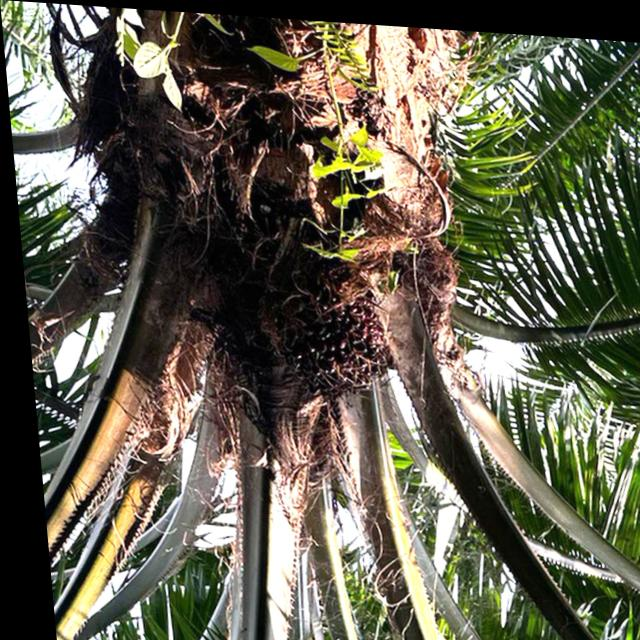unripe: (256, 215, 398, 404)
